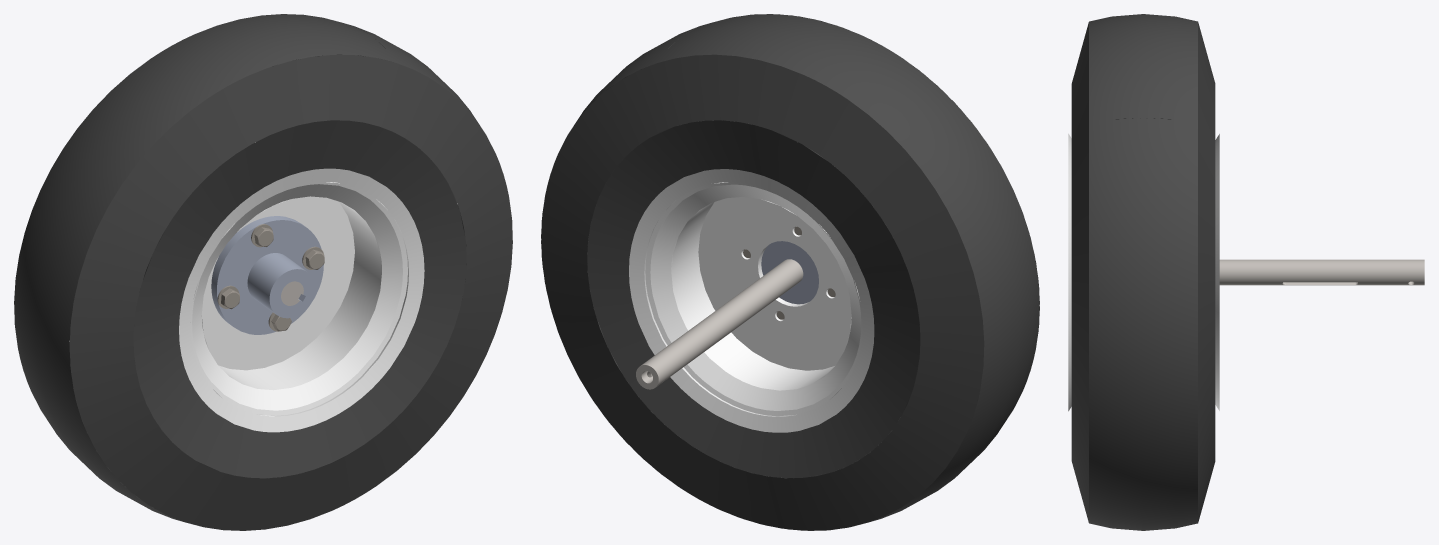
File: front_right_wheel_link.DAE
3 views of the same model, side by side, from view 1: azimuth 30°, elevation 25°; view 2: azimuth 150°, elevation 25°; view 3: azimuth 270°, elevation 25° (orthographic).
Visible parts, largest first — view 1: Revolution1_1_-DC_Shell, Revolution1_2_-DC_Shell, Mirror1-DC_Shell, Cut-Extrude4-DC_Shell; view 2: Revolution1_1_-DC_Shell, Revolution1_2_-DC_Shell, Mirror1-DC_Shell, Extrusion8-DC_Shell, Cut-Extrude4-DC_Shell; view 3: Revolution1_2_-DC_Shell, Revolution1_1_-DC_Shell, Extrusion8-DC_Shell, Mirror1-DC_Shell.
Boxes of the visible parts, x1,y1,x2,y2 form: Revolution1_1_-DC_Shell: (14, 14, 396, 522); Revolution1_2_-DC_Shell: (158, 26, 512, 530); Mirror1-DC_Shell: (179, 142, 424, 432); Cut-Extrude4-DC_Shell: (211, 216, 323, 334); Revolution1_1_-DC_Shell: (657, 14, 1039, 522); Revolution1_2_-DC_Shell: (541, 26, 867, 530); Mirror1-DC_Shell: (629, 169, 874, 432); Extrusion8-DC_Shell: (636, 259, 803, 389); Cut-Extrude4-DC_Shell: (761, 241, 818, 304); Revolution1_2_-DC_Shell: (1071, 118, 1215, 530); Revolution1_1_-DC_Shell: (1071, 14, 1215, 158); Extrusion8-DC_Shell: (1219, 259, 1424, 285); Mirror1-DC_Shell: (1068, 133, 1219, 411).
Size of the model in its own units: 14.93 by 10.28 by 14.93.
